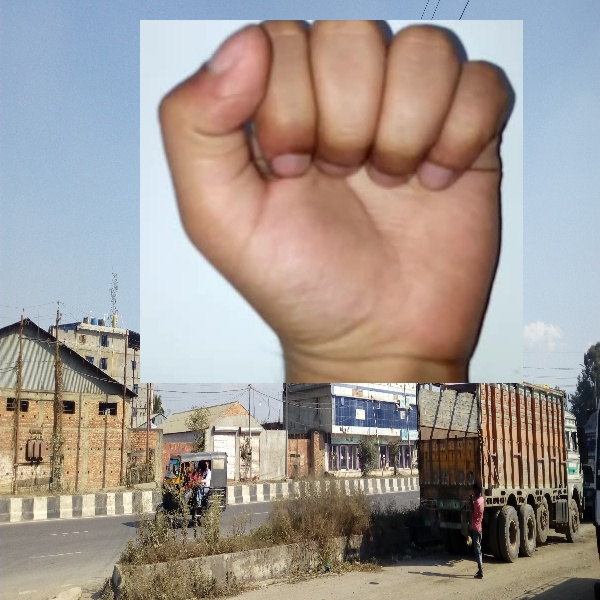F: (140, 20, 523, 383)
